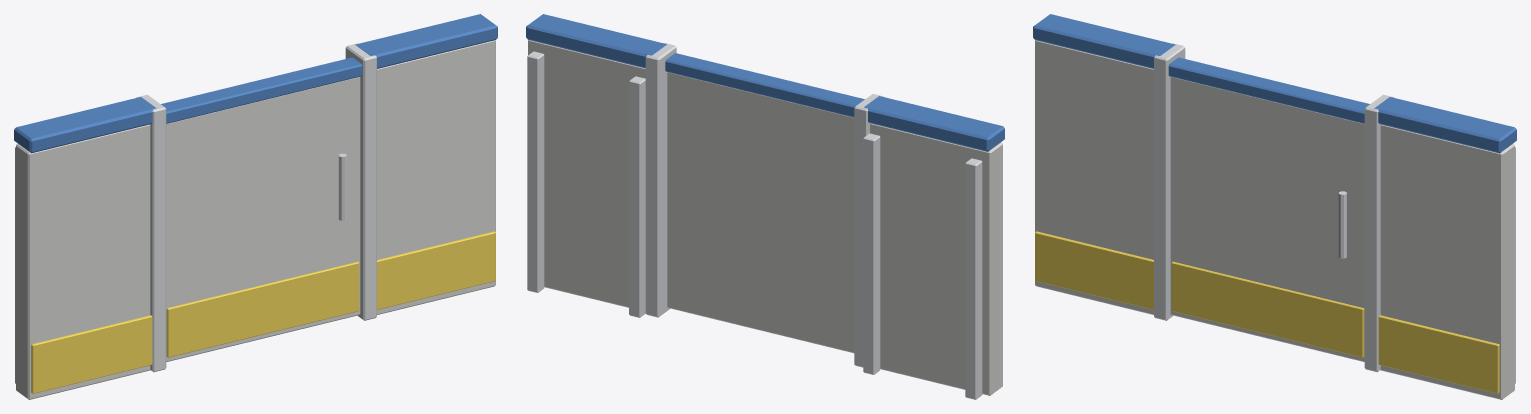
The model's file is ice-hockey-arena-and-locker-room-boards-gate-panel-718321b4__33697.glb.
3 views of the same model, side by side, from view 1: azimuth 30°, elevation 25°; view 2: azimuth 150°, elevation 25°; view 3: azimuth 330°, elevation 25° (orthographic).
Visible parts, largest first — view 1: boards-gate-panel, boards-gate/white, boards-gate/yellow, boards-gate/blue, boards-gate/metal; view 2: boards-gate-panel, boards-gate/white, boards-gate/blue; view 3: boards-gate-panel, boards-gate/white, boards-gate/yellow, boards-gate/blue, boards-gate/metal.
Boxes of the visible parts, x1,y1,x2,y2 form: boards-gate-panel: [14, 14, 497, 399]; boards-gate/white: [166, 77, 360, 361]; boards-gate/yellow: [166, 261, 359, 357]; boards-gate/blue: [161, 57, 362, 123]; boards-gate/metal: [338, 153, 346, 220]; boards-gate-panel: [526, 14, 1004, 399]; boards-gate/white: [667, 72, 854, 353]; boards-gate/blue: [665, 53, 864, 117]; boards-gate-panel: [1033, 14, 1516, 399]; boards-gate/white: [1170, 77, 1364, 361]; boards-gate/yellow: [1171, 261, 1364, 357]; boards-gate/blue: [1168, 57, 1369, 123]; boards-gate/metal: [1338, 191, 1346, 258].
Bounding box in the file's own units: 2 × 1.07 × 0.191.
